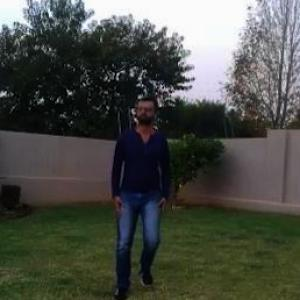follow: (112, 88, 168, 282)
